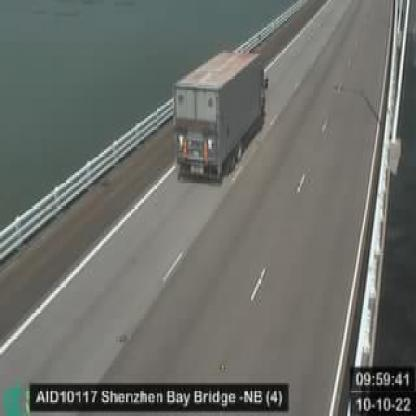Truck: (172, 44, 264, 180)
